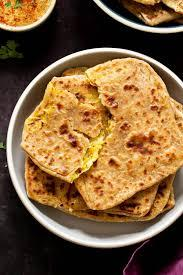paratha: (17, 64, 183, 208)
